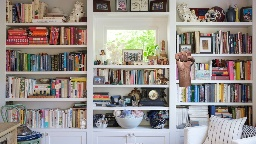Pugno: (172, 49, 196, 70)
